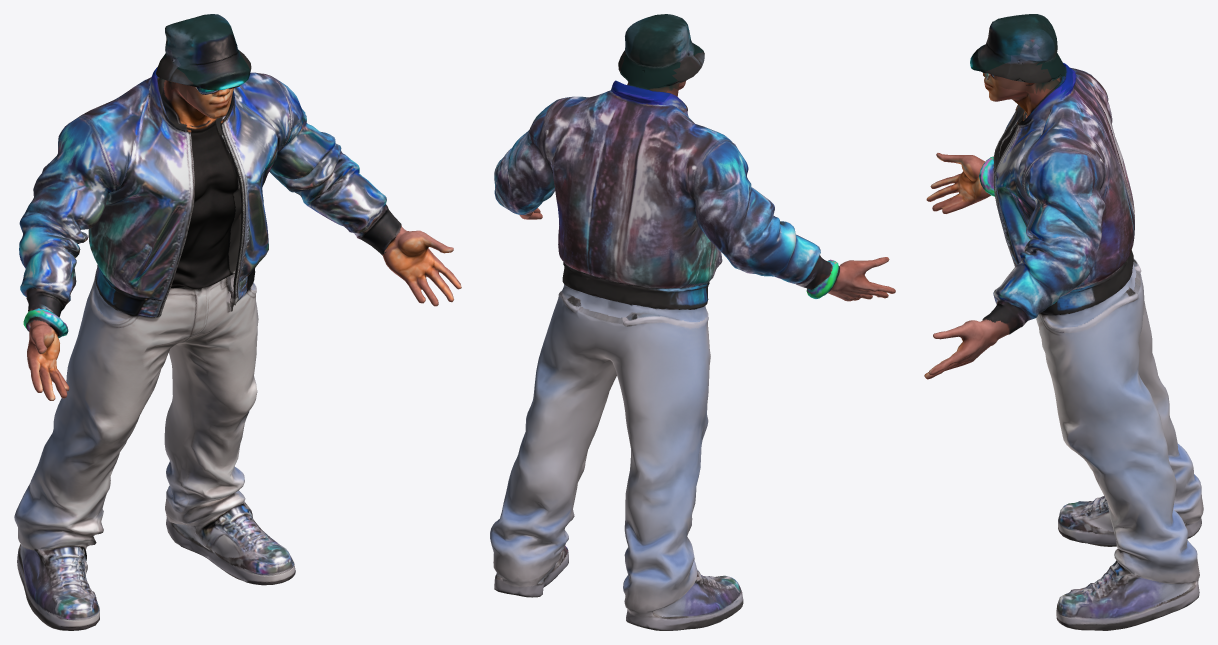
Rendered from house-chrome-track_body.glb.
3 views of the same model, side by side, from view 1: azimuth 30°, elevation 25°; view 2: azimuth 150°, elevation 25°; view 3: azimuth 270°, elevation 25° (orthographic). The views are drawn at different scales.
Visible parts, largest first — view 1: house-chrome-track; view 2: house-chrome-track; view 3: house-chrome-track.
Boxes of the visible parts, x1,y1,x2,y2 form: house-chrome-track: (14,14,461,630); house-chrome-track: (490,14,895,630); house-chrome-track: (924,14,1203,630).
Size of the model in its own units: 1.34 by 1.84 by 0.8287.
2 materials, 2 textured.
